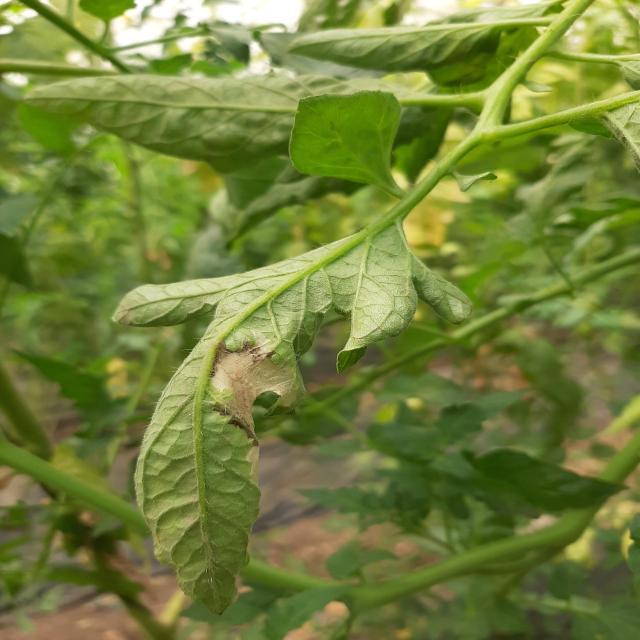Tuta absoluta: (188, 320, 315, 447)
